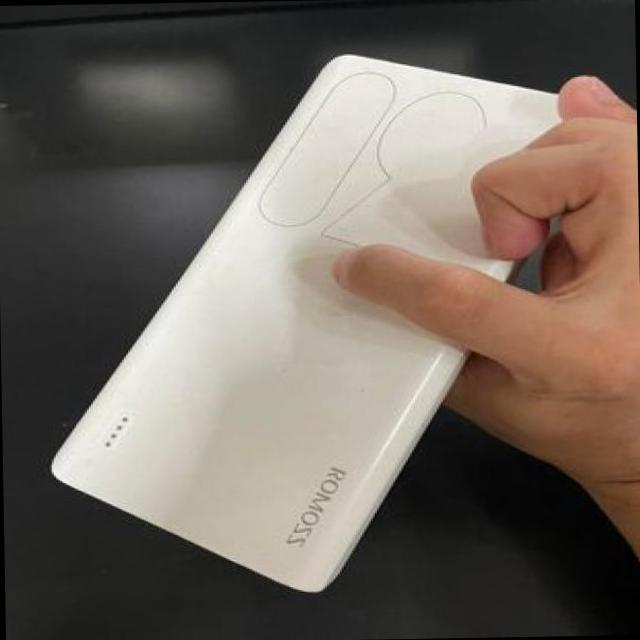power_bank: (33, 46, 628, 614)
